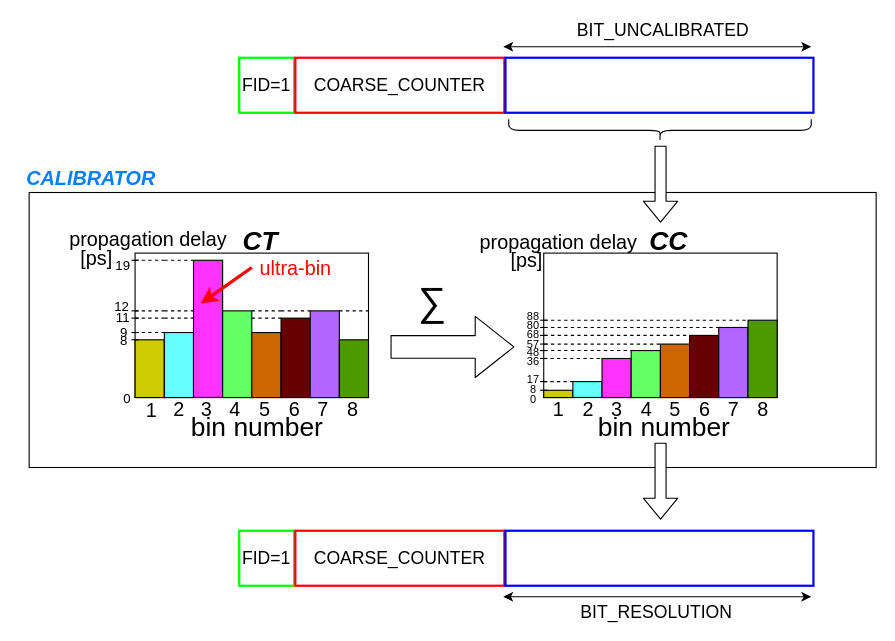
This 895x641 diagram has some shape labels left out. The shapes that lost their labels are listed below. From the top down, each one's centre as x and y in pixels, then its label:
At point 659,84: "FINE (UNCALIBRATED)".
At point 659,557: "FINE (CALIBRATED)".
